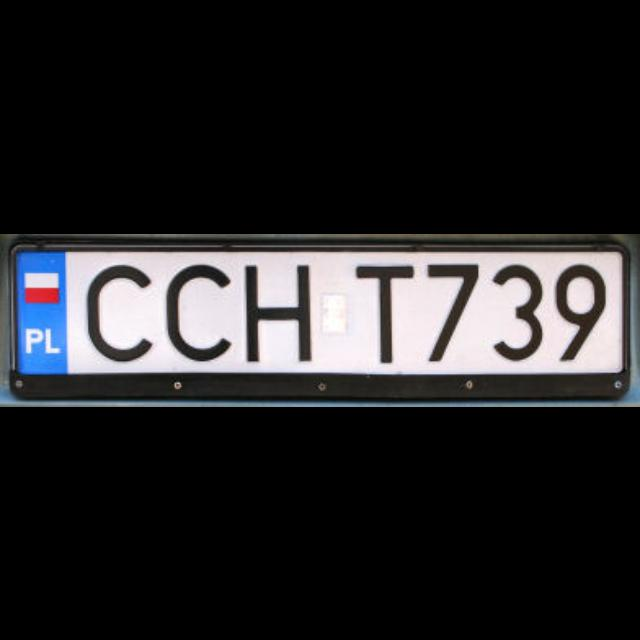pl_license_plate: (12, 243, 624, 373)
